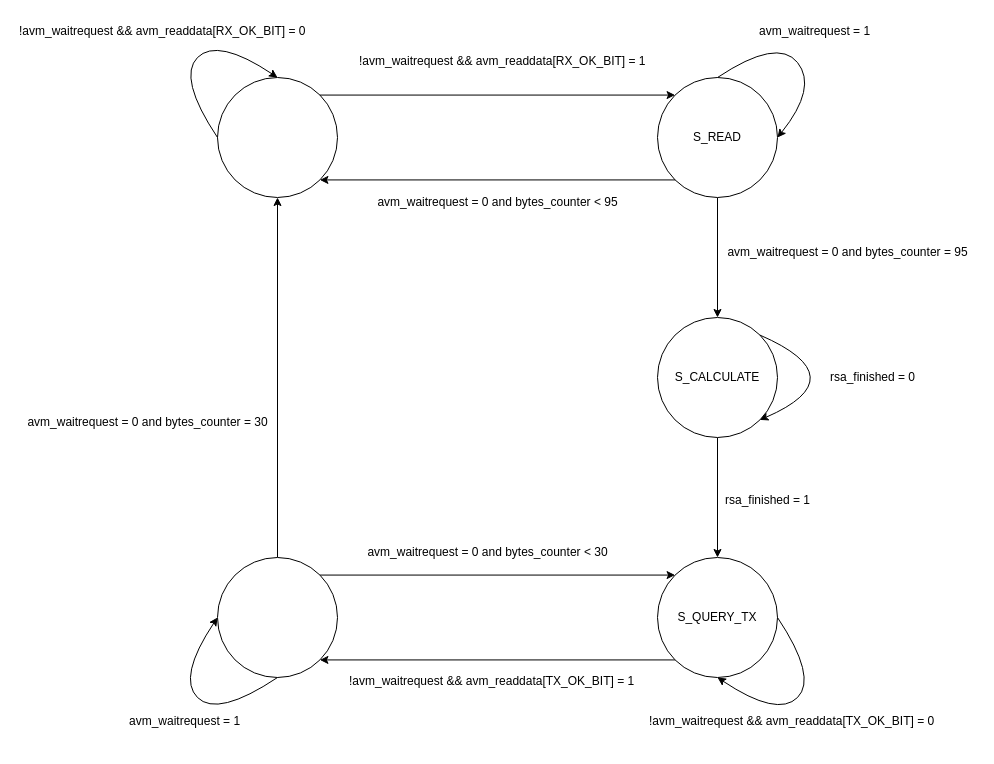
The diagram is 994 pixels wide and 764 high, and some of its shapes have lost their labels. The box of each missing label's shape, as (x1, y1, x2, y2) in pixels:
S_QUERY_RX: (216, 76, 338, 198)
S_WRITE: (216, 556, 338, 678)
